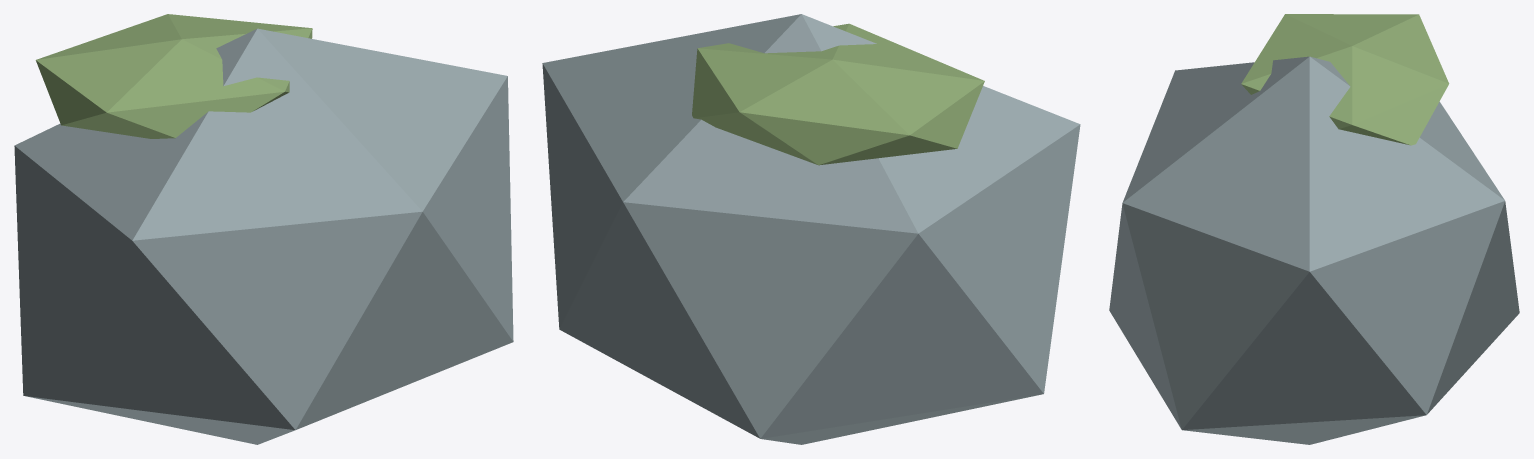
File: pedra.glb
3 renders of one model, left to right at view 1: azimuth 30°, elevation 25°; view 2: azimuth 150°, elevation 25°; view 3: azimuth 270°, elevation 25°, orthographic. The views are drawn at different scales.
Visible parts, largest first — view 1: bosque_pedra; view 2: bosque_pedra; view 3: bosque_pedra.
Part boxes in pixels (<box>): bosque_pedra: <box>14,14,513,444</box>; bosque_pedra: <box>542,14,1080,444</box>; bosque_pedra: <box>1109,14,1519,444</box>.
Size of the model in its own units: 0.7353 by 0.6037 by 0.5782.
